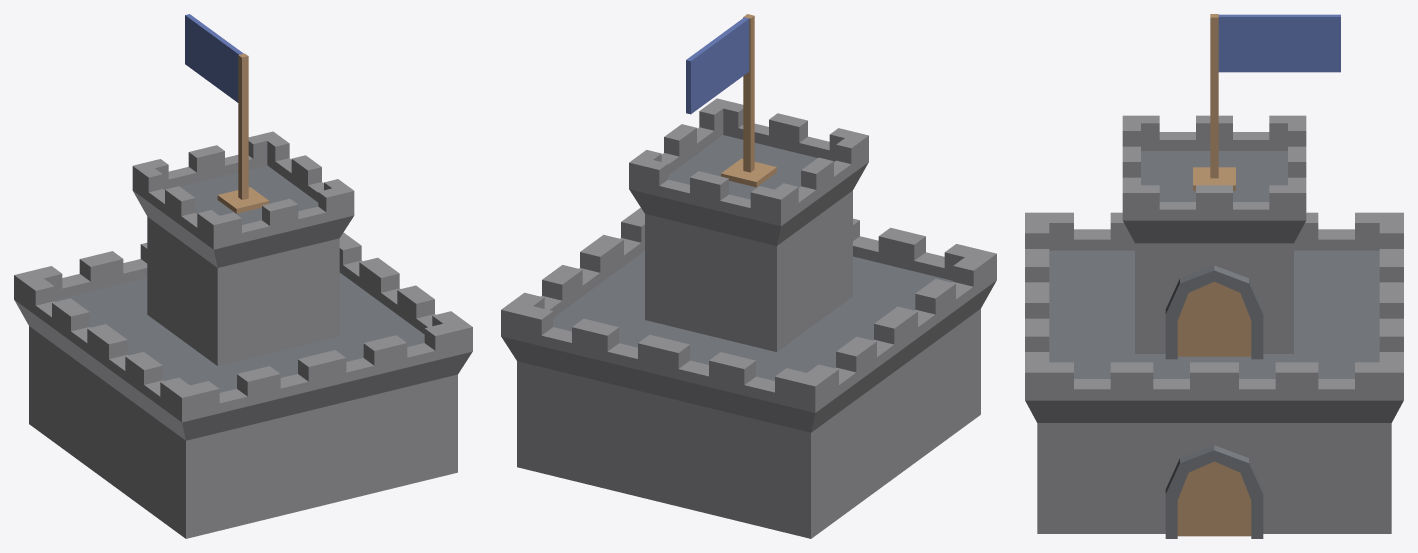
Rendered from castle.glb.
3 renders of one model, left to right at view 1: azimuth 30°, elevation 25°; view 2: azimuth 150°, elevation 25°; view 3: azimuth 270°, elevation 25°, orthographic. The views are drawn at different scales.
Visible parts, largest first — view 1: Bottom, Top, Flag, Flag Pole; view 2: Bottom, Top, Flag, Flag Pole; view 3: Bottom, Top, Flag, Door, Door.003, Frame.003, Frame, Flag Pole.
Boxes of the visible parts, left/top/right/bottom form: Bottom: left=14, top=232, right=472, bottom=538; Top: left=132, top=131, right=354, bottom=365; Flag: left=185, top=14, right=243, bottom=102; Flag Pole: left=217, top=53, right=269, bottom=213; Bottom: left=501, top=207, right=996, bottom=538; Top: left=629, top=98, right=868, bottom=351; Flag: left=686, top=17, right=749, bottom=114; Flag Pole: left=721, top=14, right=776, bottom=187; Bottom: left=1025, top=212, right=1403, bottom=533; Top: left=1122, top=115, right=1306, bottom=353; Flag: left=1218, top=14, right=1340, bottom=72; Door: left=1177, top=461, right=1251, bottom=536; Door.003: left=1177, top=281, right=1251, bottom=356; Frame.003: left=1165, top=265, right=1263, bottom=359; Frame: left=1165, top=445, right=1263, bottom=538; Flag Pole: left=1193, top=14, right=1235, bottom=190.
Size of the model in its own units: 6.2 by 8 by 6.2.
